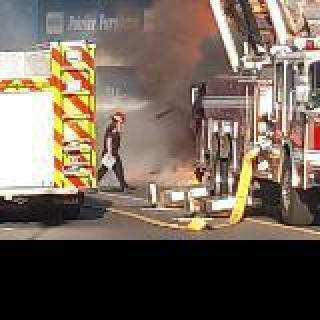fire: (110, 0, 204, 180), (268, 0, 320, 46)
